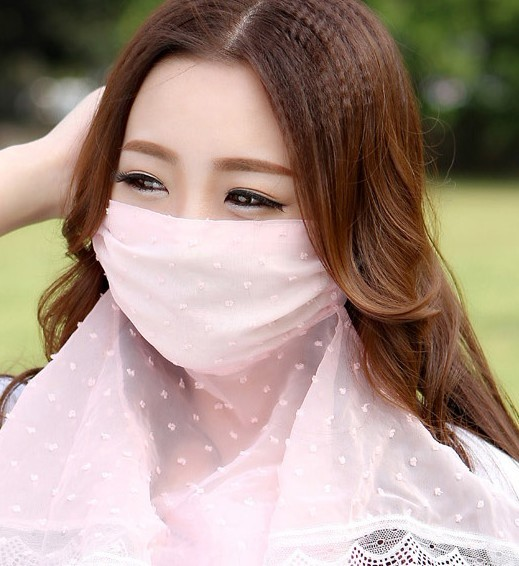face_mask: (103, 61, 311, 364)
